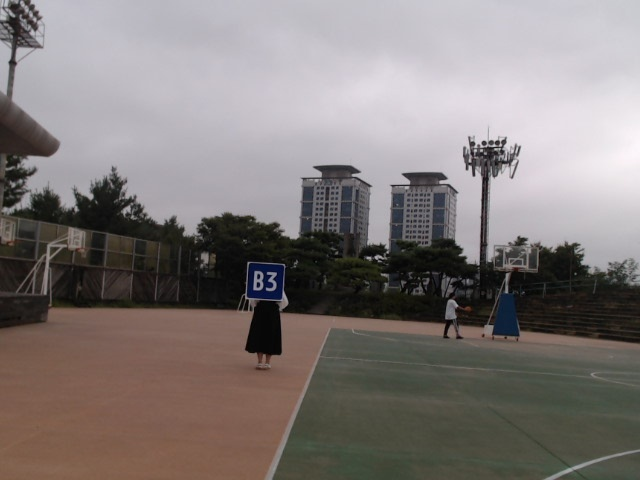delivery_b3: (246, 262, 284, 301)
